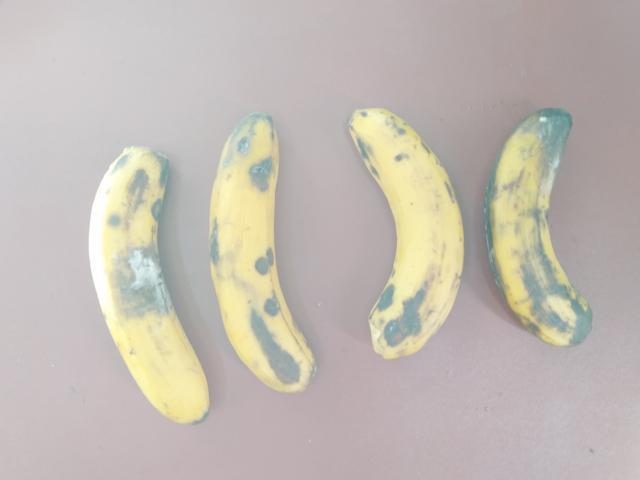overripe: (182, 100, 317, 390), (333, 89, 464, 381)
rotten: (474, 76, 610, 389), (77, 124, 216, 426)
